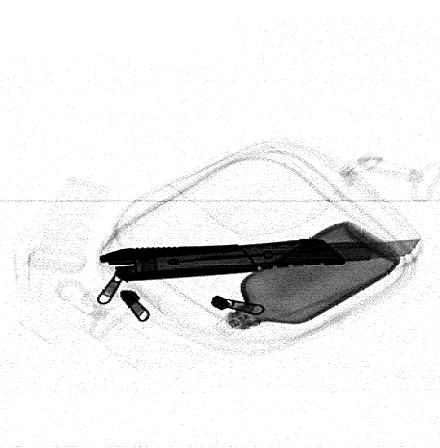Knife: (97, 237, 423, 283)
